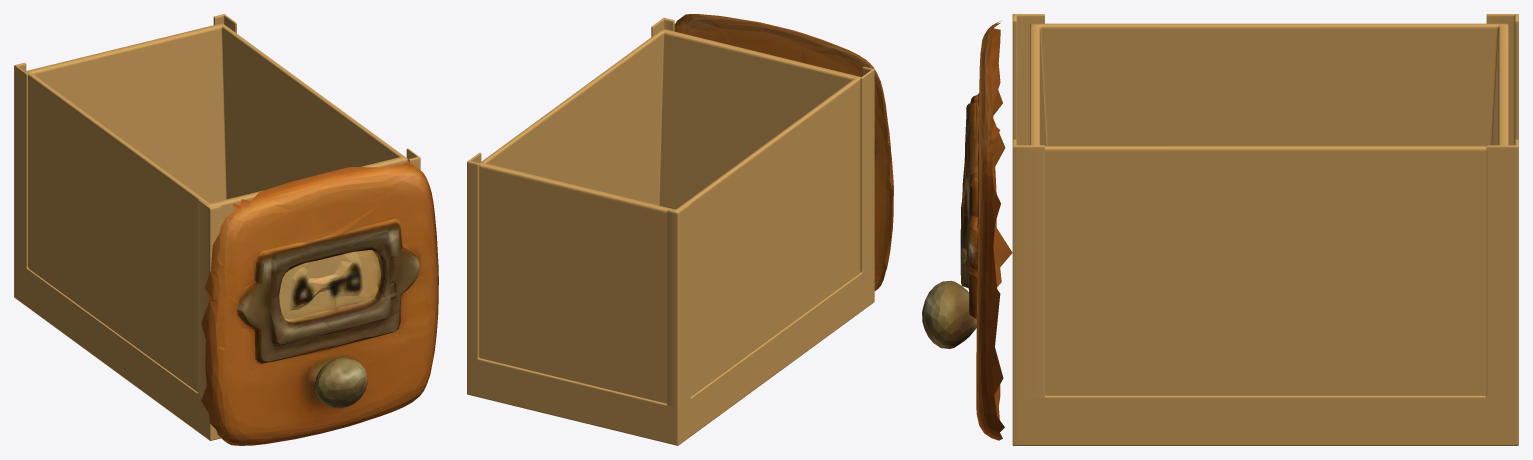
Rendered from drawer_top_left.glb.
The picture shows the model from 3 angles, left to right: view 1: azimuth 30°, elevation 25°; view 2: azimuth 150°, elevation 25°; view 3: azimuth 270°, elevation 25°; orthographic projection. The views are drawn at different scales.
Visible parts, largest first — view 1: prefab_drawer_body_1, source_front_cap_0; view 2: prefab_drawer_body_1, source_front_cap_0; view 3: prefab_drawer_body_1, source_front_cap_0.
Part boxes in pixels (x1=…): prefab_drawer_body_1: x1=14, y1=14, x2=420, y2=440; source_front_cap_0: x1=201, y1=161, x2=438, y2=445; prefab_drawer_body_1: x1=467, y1=17, x2=874, y2=445; source_front_cap_0: x1=674, y1=14, x2=893, y2=290; prefab_drawer_body_1: x1=1012, y1=14, x2=1518, y2=445; source_front_cap_0: x1=922, y1=20, x2=1012, y2=440.
Bounding box in the file's own units: 0.0968 × 0.1022 × 0.1659.
2 materials, 1 textured.
